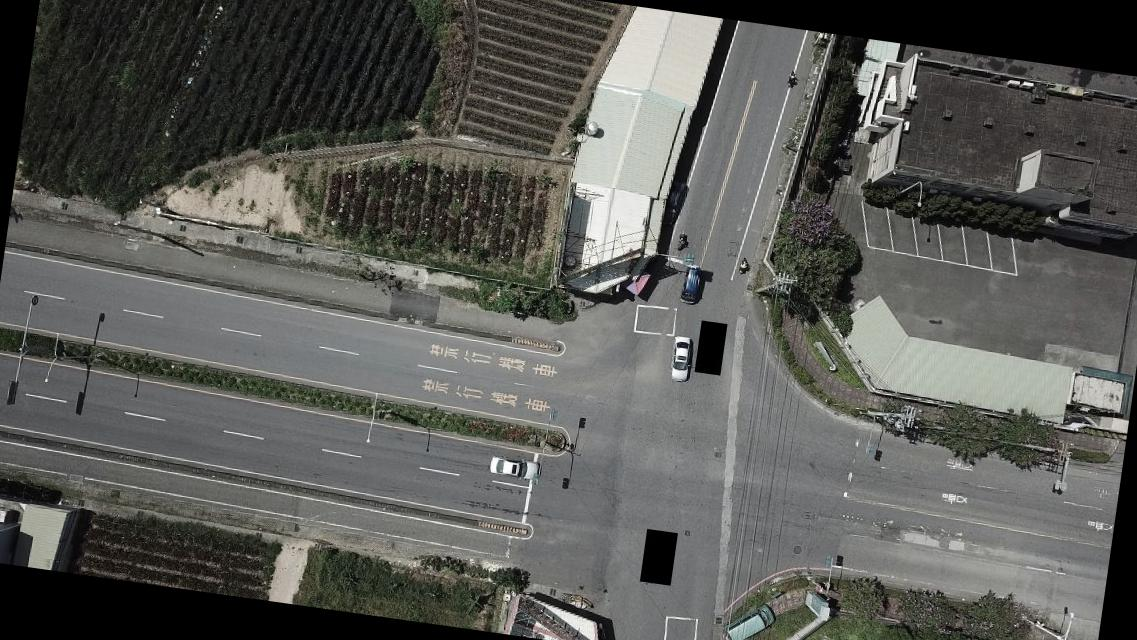vehicle: (725, 599, 778, 639), (484, 454, 541, 482), (665, 334, 694, 384), (679, 262, 705, 306)
